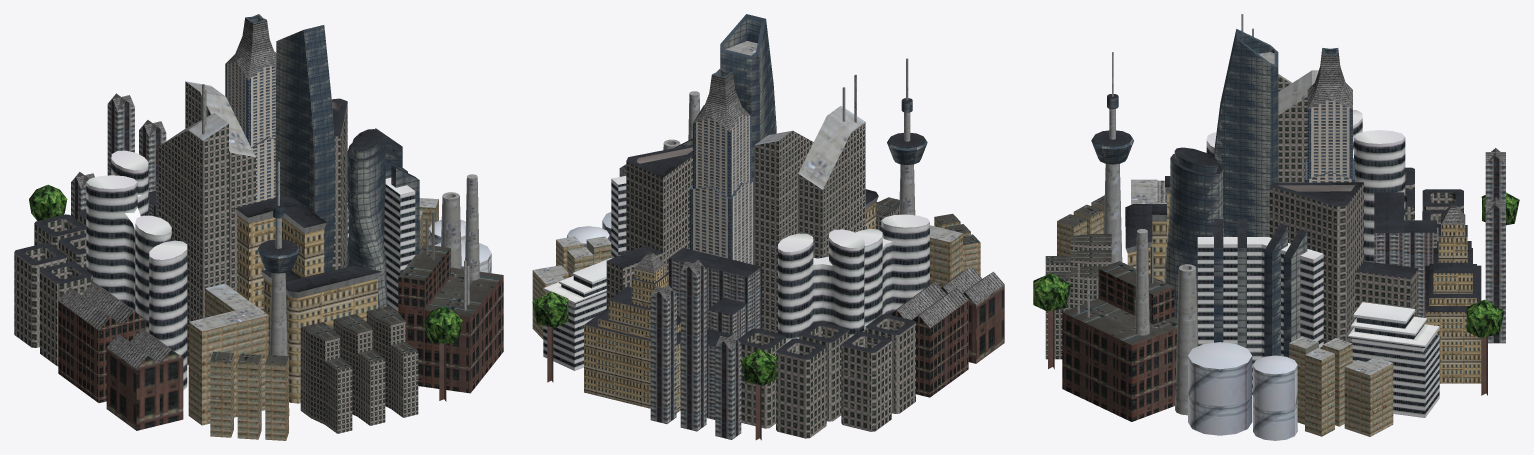
Rendered from ModernCity_Tier5_pbr.glb.
The picture shows the model from 3 angles, left to right: view 1: azimuth 30°, elevation 25°; view 2: azimuth 150°, elevation 25°; view 3: azimuth 270°, elevation 25°; orthographic projection. The views are drawn at different scales.
Parts seen in each view (by area): view 1: ModernCity_Tier5; view 2: ModernCity_Tier5; view 3: ModernCity_Tier5.
Part boxes in pixels (box(x1,y1,x2,y2)): ModernCity_Tier5: box(14, 14, 503, 440); ModernCity_Tier5: box(532, 14, 1004, 440); ModernCity_Tier5: box(1033, 14, 1519, 440).
Bounding box in the file's own units: 4.13 × 3.19 × 4.39.
1 material, 1 textured.
